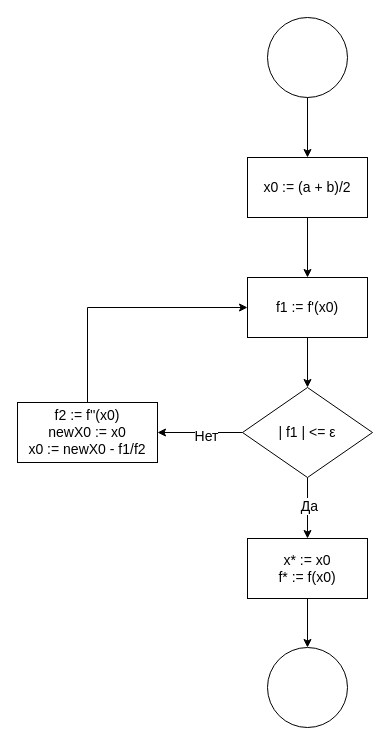
This 390x745 diagram has some shape labels left out. Each missing label, with the box of its shape:
Конец: (266, 646, 348, 728)
Начало: (266, 16, 348, 98)
